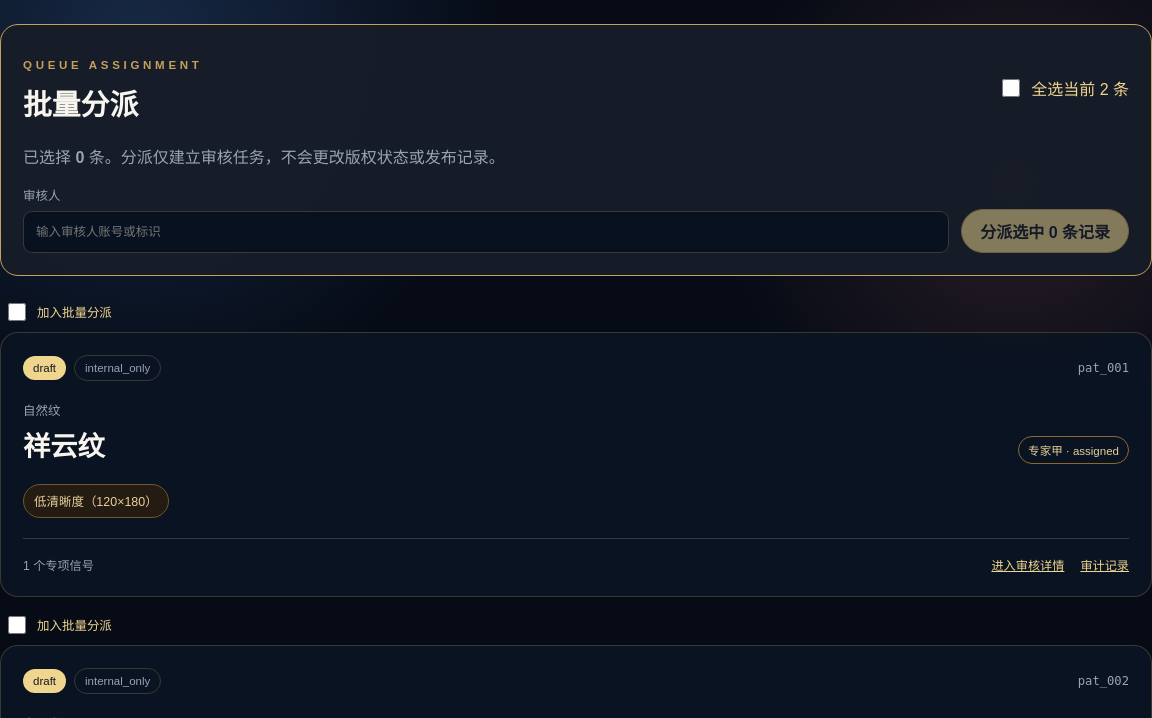
ReviewQueueBoard › selects and clears the current server page
What coordinates should you click on to do the following:
click the checkbox labelled "全选当前 2 条"
I would click on:
 (1011, 88)
Its box is [1002,78,1020,96].
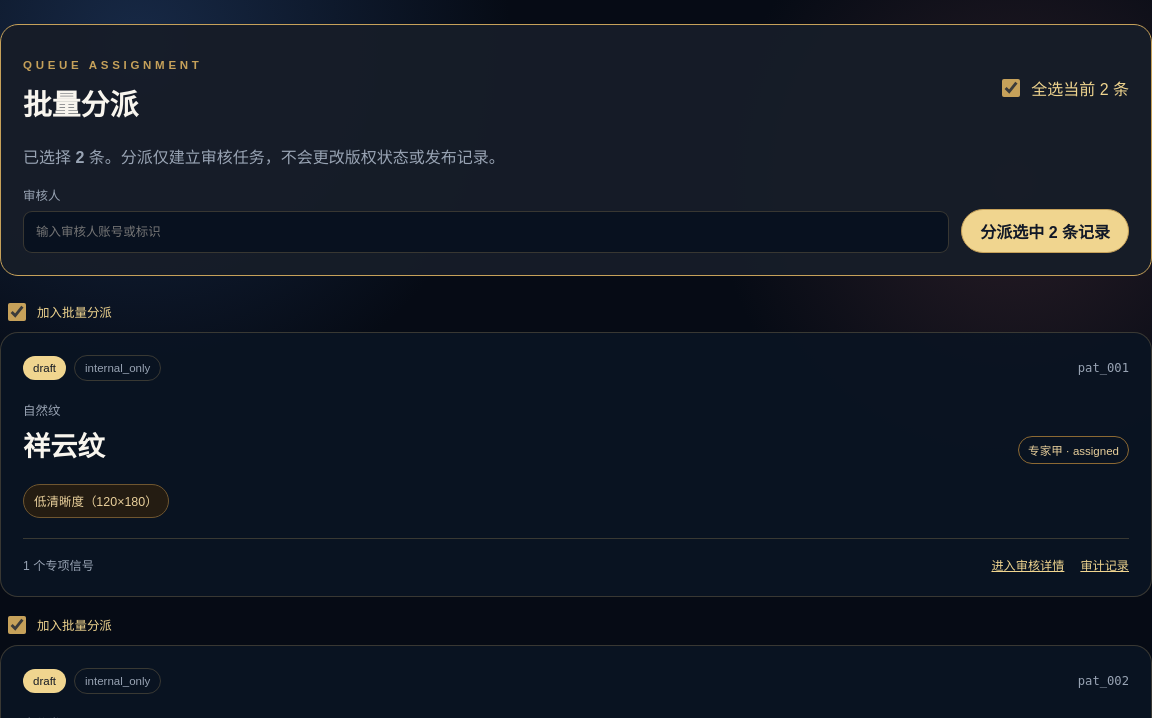
What coordinates should you click on to do the following:
click the checkbox labelled "全选当前 2 条"
I would click on:
 (1011, 88)
Its box is [1002,78,1020,96].
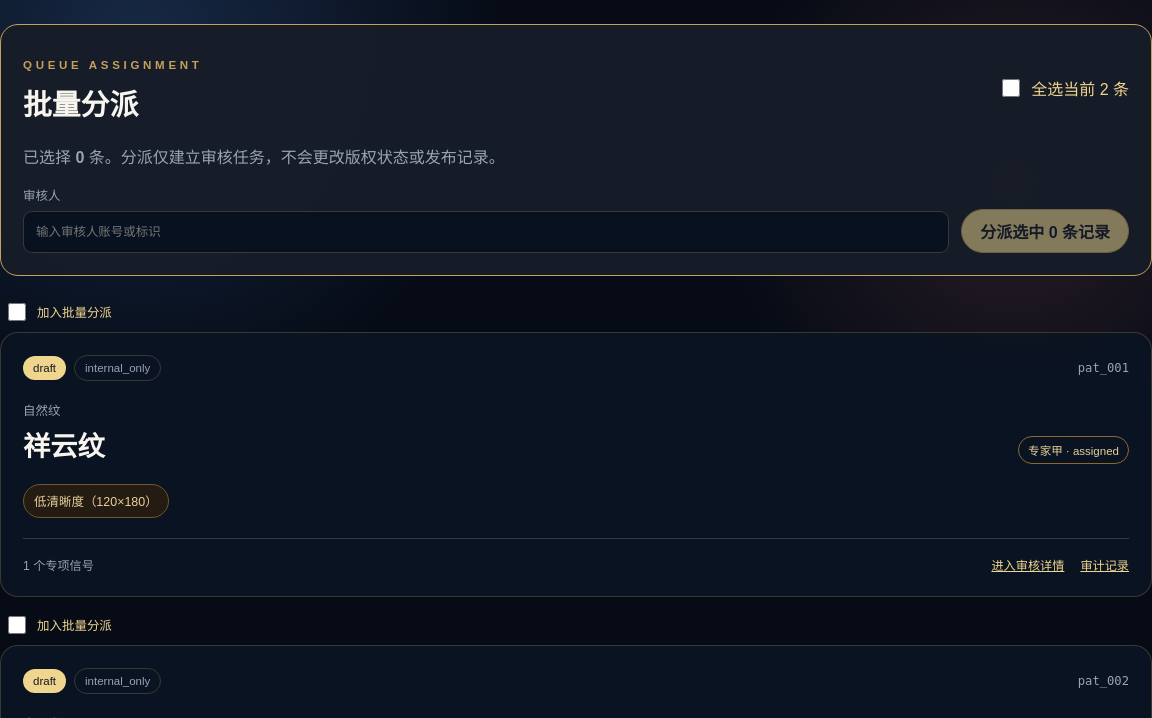
Expected: the button "分派选中 0 条记录" is disabled, [961,209,1129,253]
